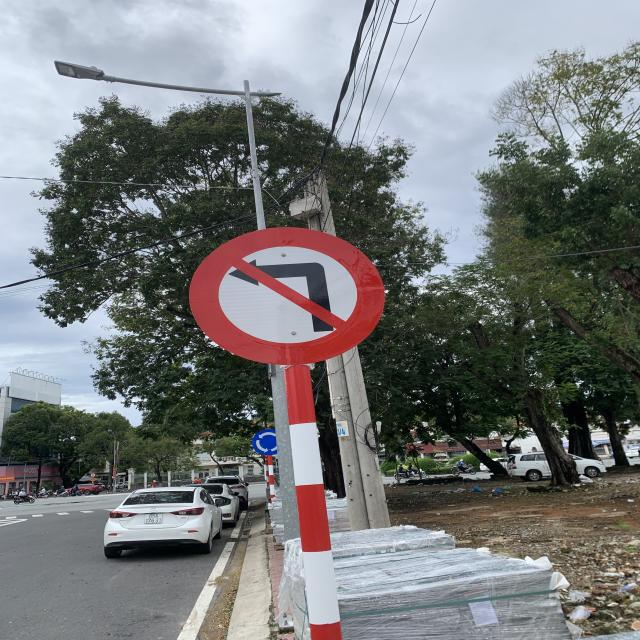Cam_Re_Trai: (190, 229, 382, 361)
